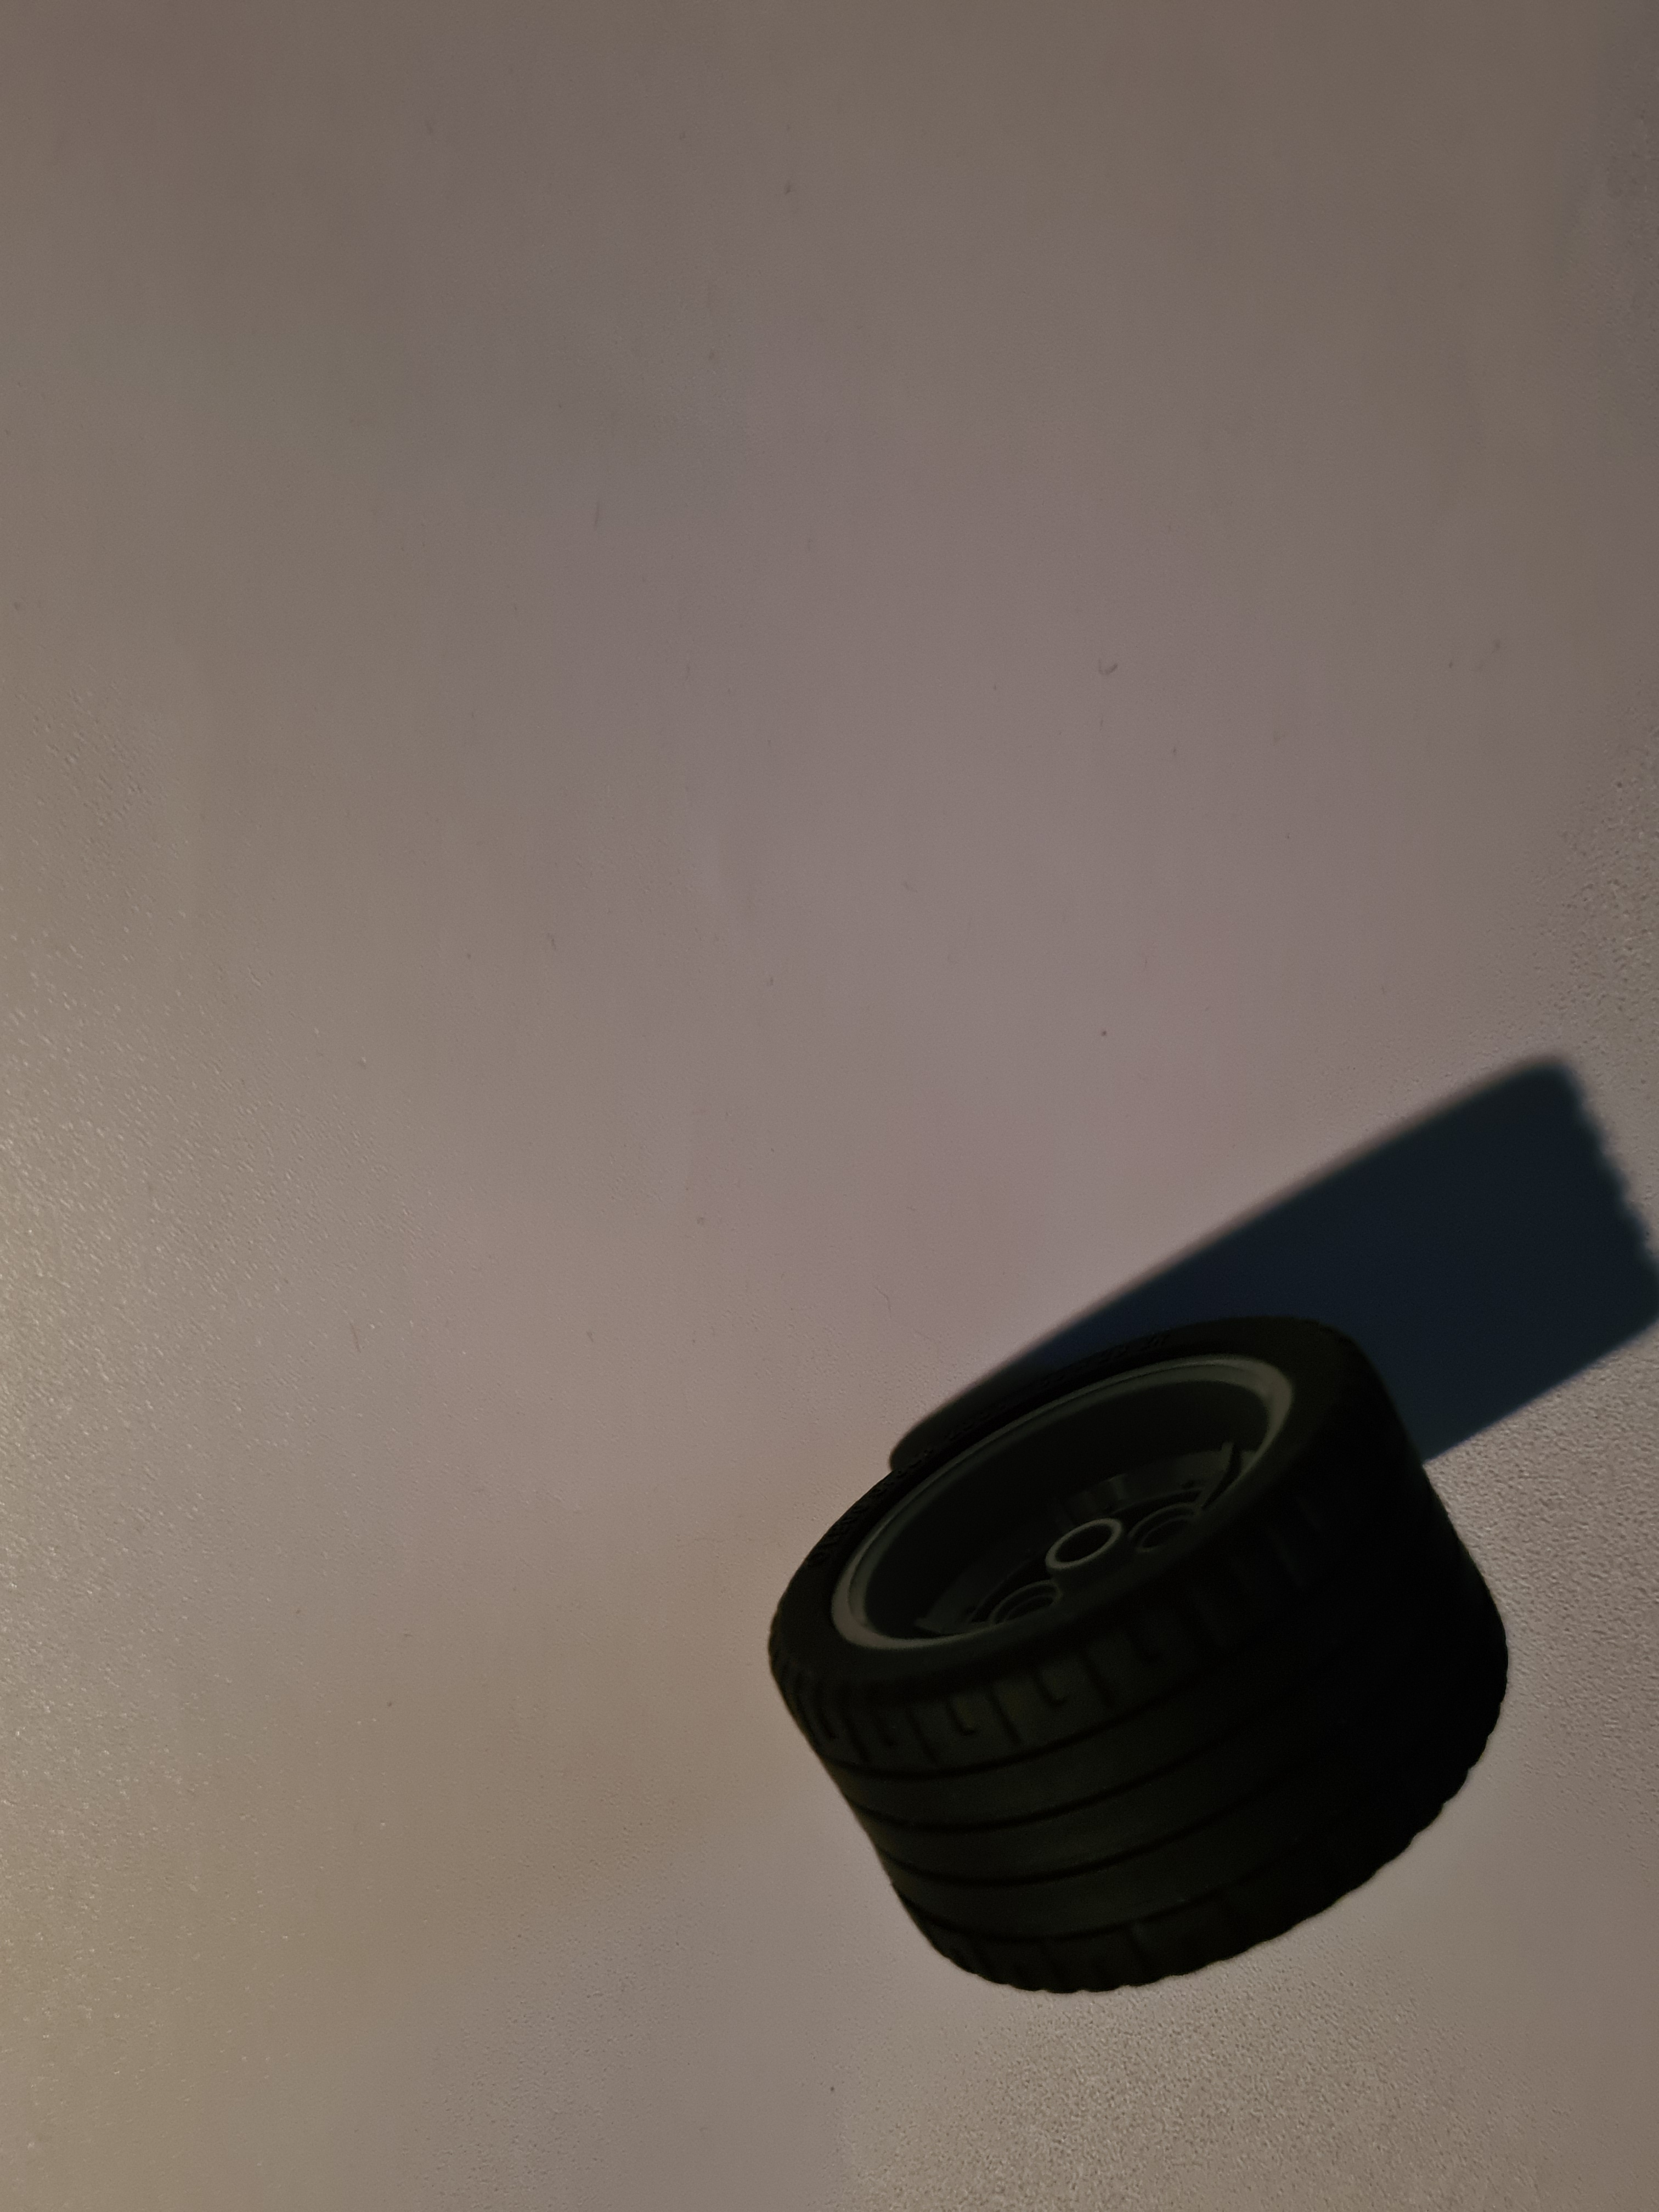Rad: (756, 1291, 1527, 2006)
